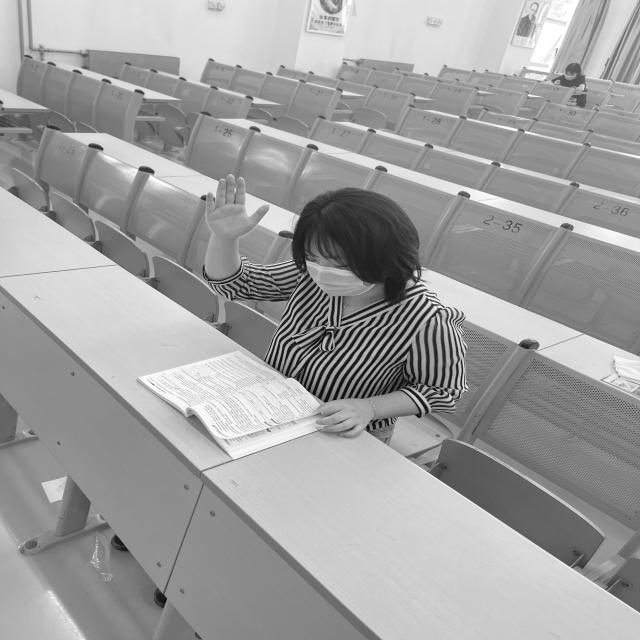study: (154, 170, 469, 453)
